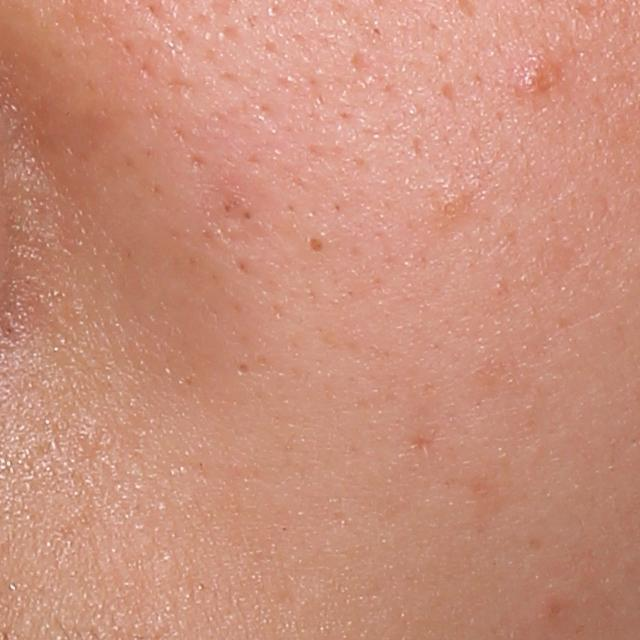comedo: (437, 194, 465, 226), (303, 230, 328, 257), (235, 357, 255, 379)
